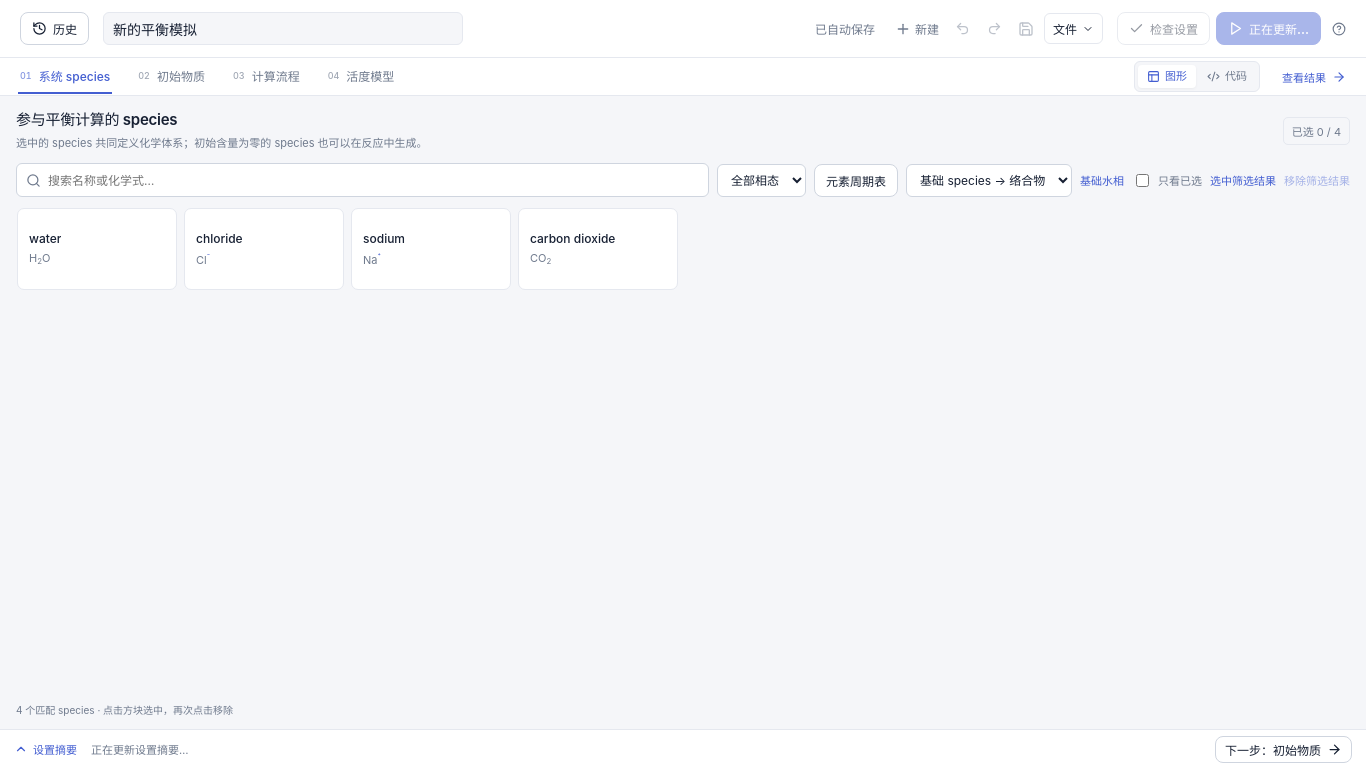
Test: equilibrium workbench › does not replace current edits when their automatic save fails before a new simulation
Expected: the button with aria-label "参与平衡 water" is enabled, [17,208,177,290]
Replace the text in the field named "模拟名称" with "Keep this edit" at (283, 28), box [103,12,463,45]
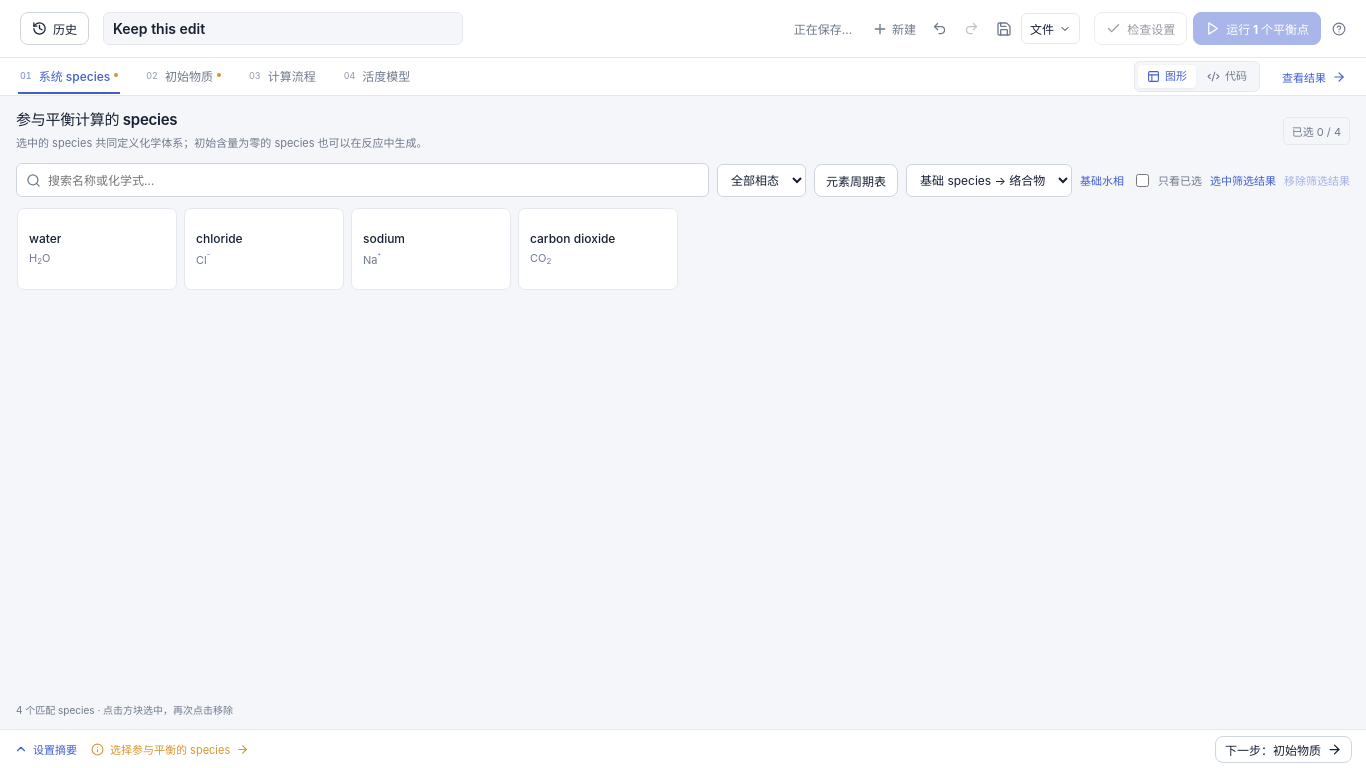
Click the button with aria-label "新建模拟".
click(894, 28)  # box [866,14,922,43]
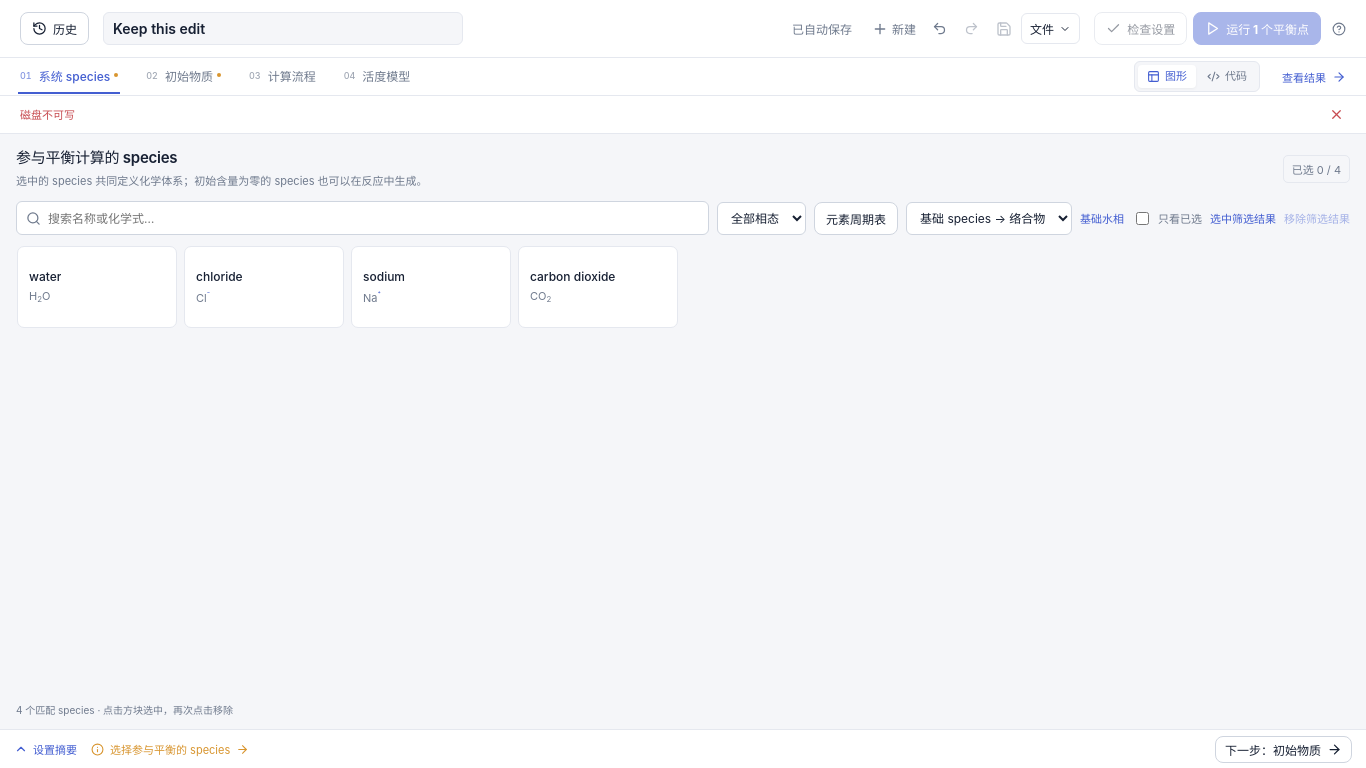
Expected: the text "磁盘不可写" is shown, [20,106,75,124]
